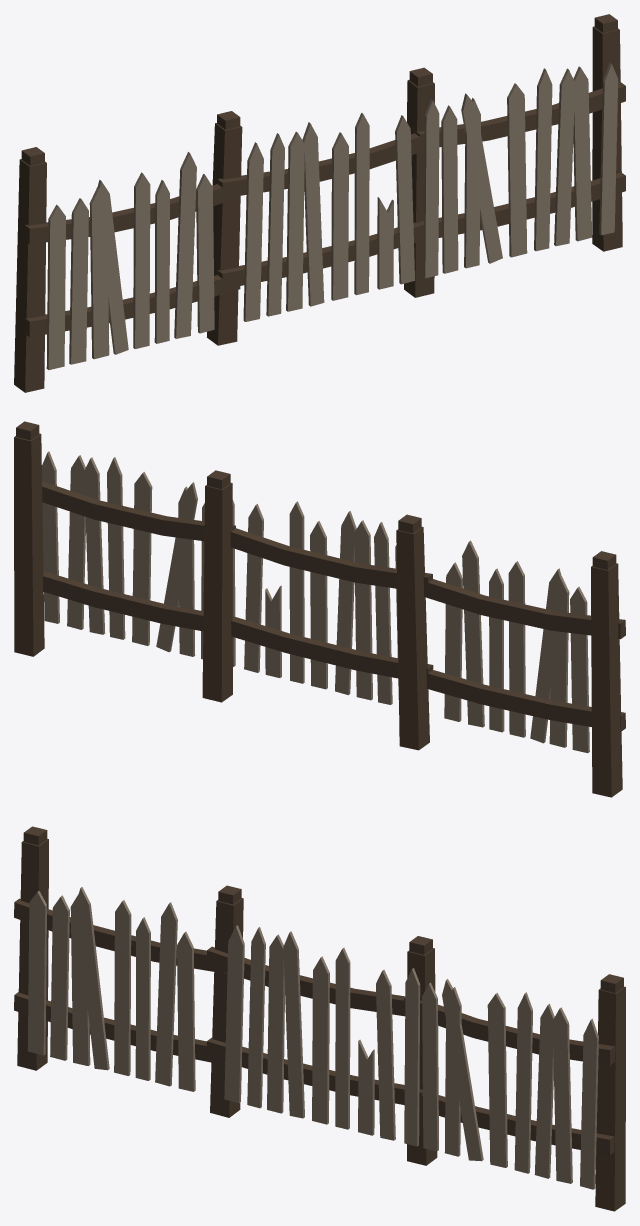
The model's file is fence.glb.
3 renders of one model, top to bottom at view 1: azimuth 30°, elevation 25°; view 2: azimuth 150°, elevation 25°; view 3: azimuth 330°, elevation 25°, orthographic.
Parts seen in each view (by area): view 1: fence; view 2: fence; view 3: fence.
Boxes of the visible parts, box(x1,y1,x2,y2) form: fence: box(14, 14, 625, 392); fence: box(14, 421, 625, 797); fence: box(14, 826, 625, 1211).
Bounding box in the file's own units: 4.03 × 1.51 × 0.2177.
